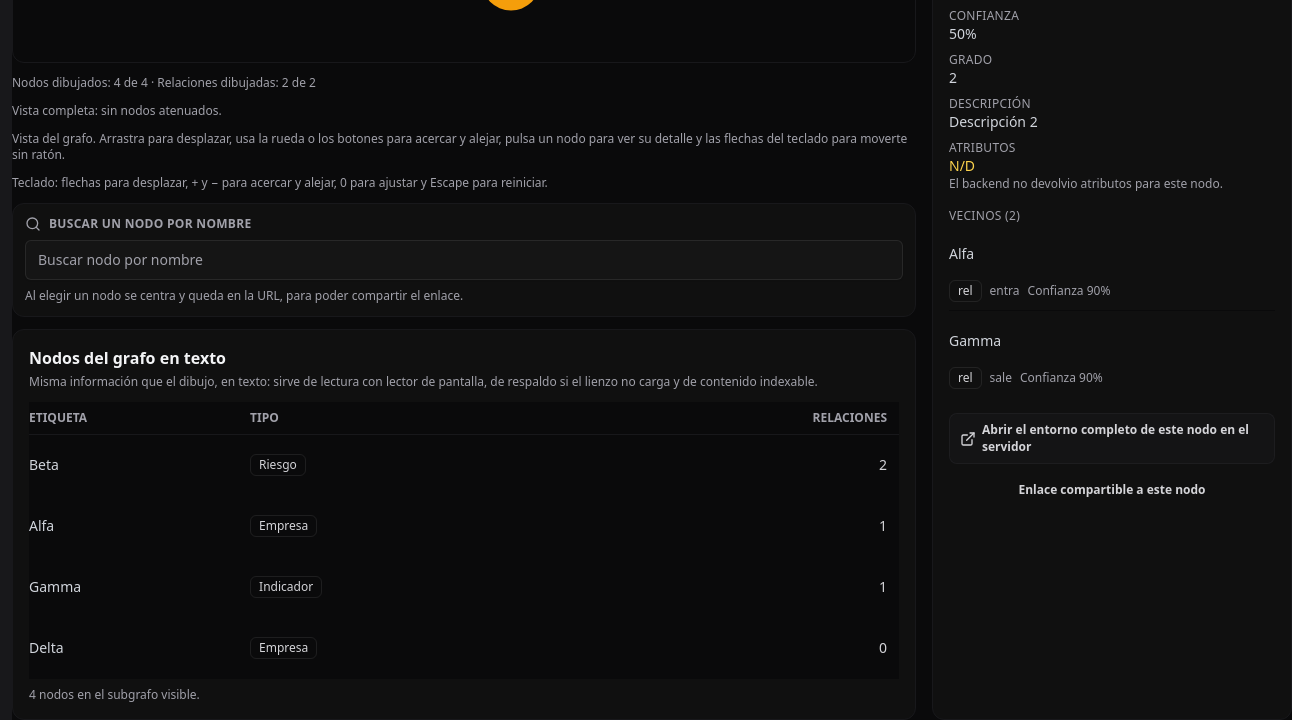
Test: KnowledgeGraphCanvas: exportar y copiar enlace › sin Clipboard API o si falla: avisa y enseña el enlace para copiarlo a mano
(page scrolled)
Step 1. Click the button with test id "kg-copy-link" → {"x": 1112, "y": 490}, box left=949, top=472, right=1275, bottom=508
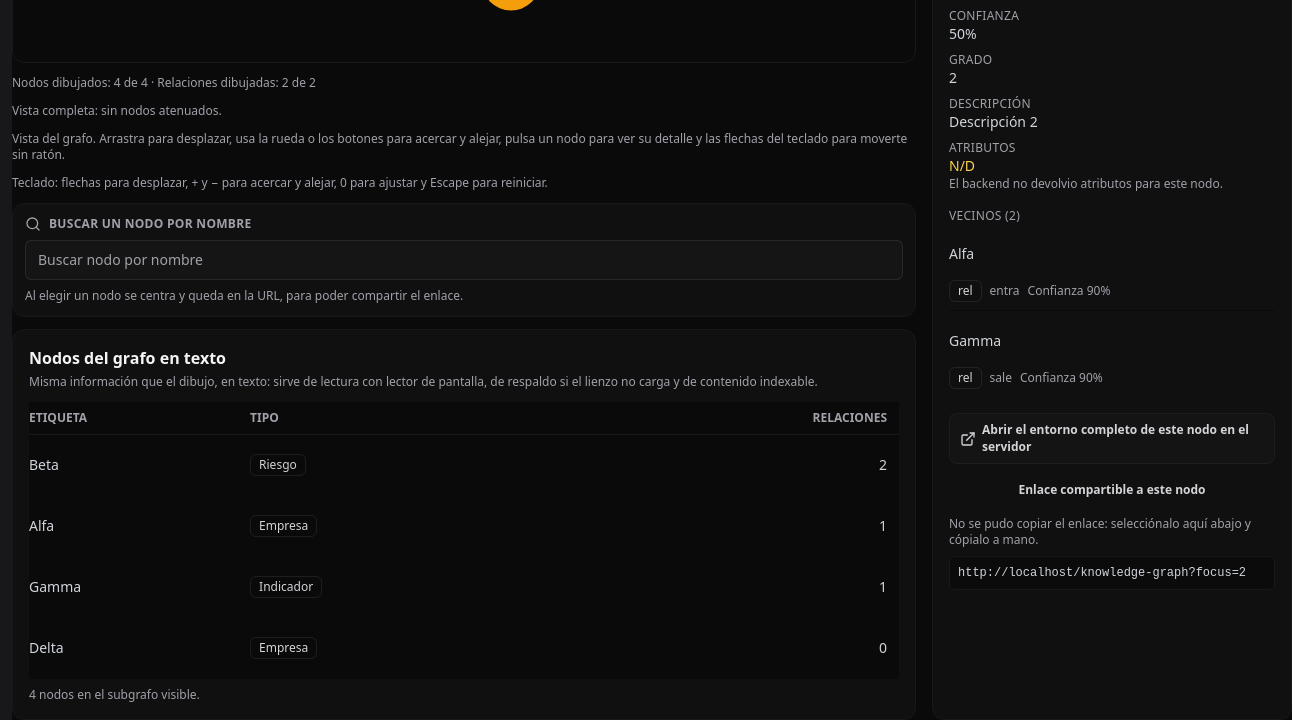
Expected: the text "http://localhost/knowledge-graph?focus=2" is shown, left=949, top=556, right=1275, bottom=590
